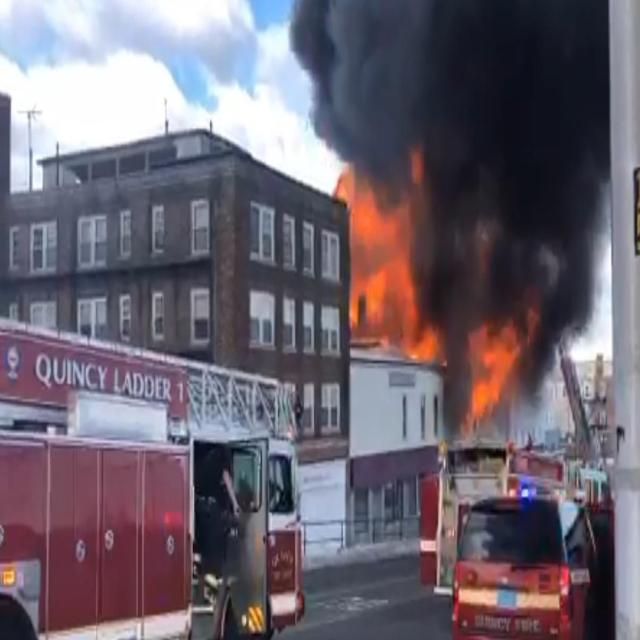Fire: (329, 138, 550, 448)
